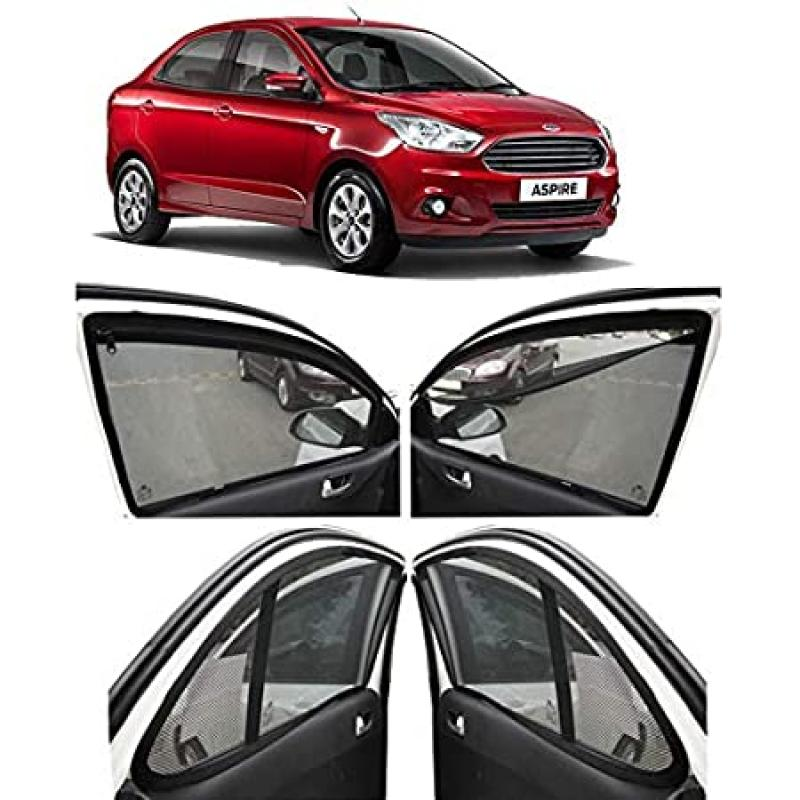car: (27, 9, 686, 242)
